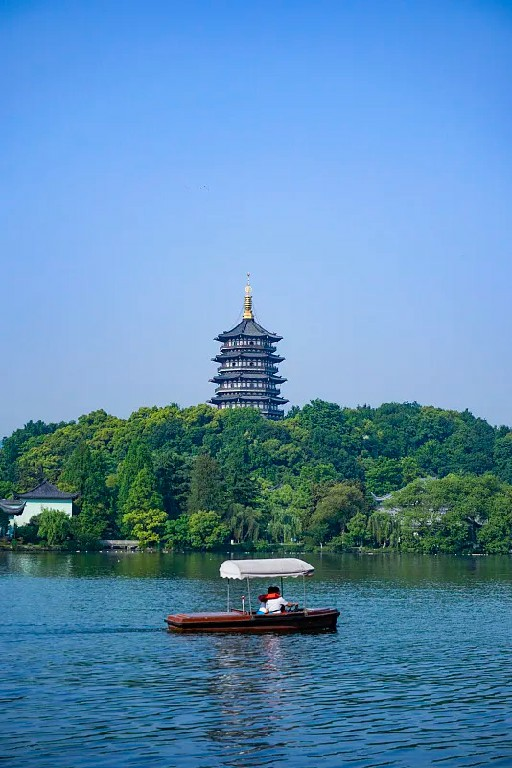Leifeng: (208, 273, 290, 422)
